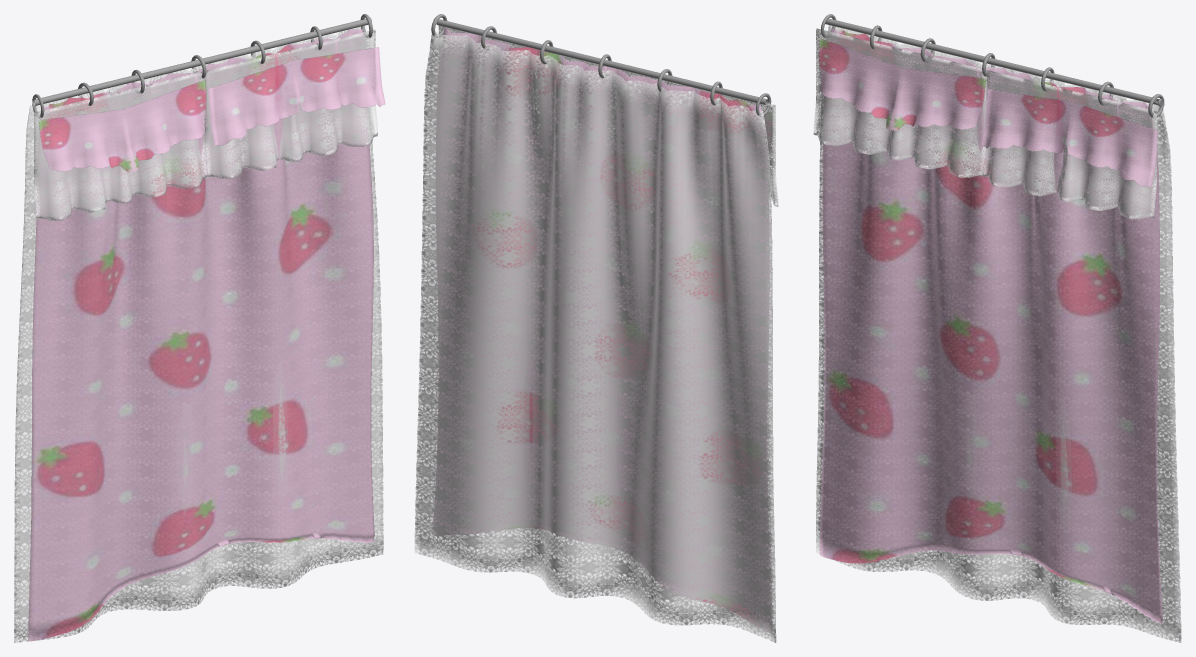
Rendered from curtain.gltf.
3 views of the same model, side by side, from view 1: azimuth 30°, elevation 25°; view 2: azimuth 150°, elevation 25°; view 3: azimuth 330°, elevation 25° (orthographic).
Parts seen in each view (by area): view 1: Plane.033_Baked; view 2: Plane.033_Baked; view 3: Plane.033_Baked.
Part boxes in pixels (x1,y1,x2,y2): Plane.033_Baked: [14, 14, 385, 642]; Plane.033_Baked: [414, 14, 778, 642]; Plane.033_Baked: [813, 14, 1181, 642].
Bounding box in the file's own units: 9.24 × 13.15 × 1.47.
